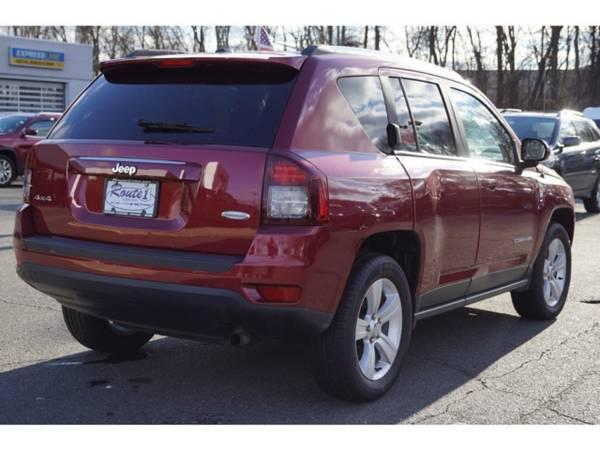Front_Fender: (536, 158, 576, 230)
Front_Right_Door: (465, 165, 539, 306)
Front_Right_Window: (446, 86, 541, 177)
Rear_Bumper: (6, 207, 352, 346)
Rear_Fender: (272, 66, 407, 247)
Rear_Right_Door: (389, 159, 478, 318)
Rear_Right_Window: (375, 73, 463, 161)
Rear_Windshield: (44, 63, 306, 149)
Right_Taillight: (257, 151, 322, 228)
Roof: (106, 52, 495, 99)
Tailgate: (21, 139, 264, 259)
Wheel: (314, 249, 411, 400), (510, 224, 571, 320), (61, 313, 153, 368)
